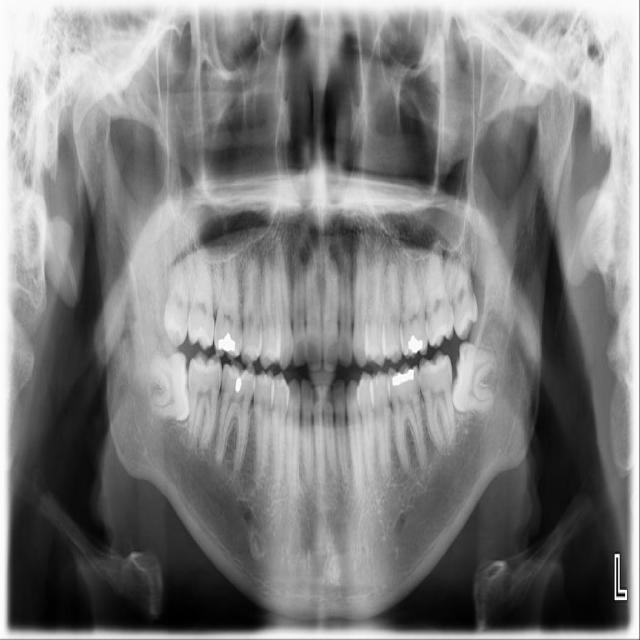3M ESPE Implant: (163, 249, 192, 348)
52: (215, 358, 259, 416), (383, 360, 426, 408), (211, 309, 246, 363), (397, 313, 432, 360)
73: (560, 455, 566, 474)
BioHorizons Implant: (421, 238, 456, 348)
BioLife Implant: (442, 249, 483, 342)
Biomet 3i Implant: (450, 340, 500, 415)
Blue Sky Bio Implant: (416, 349, 458, 453)
Caries: (188, 244, 215, 351)
Implant: (186, 350, 223, 451)
Keystone Dental Implant: (148, 351, 194, 424)
